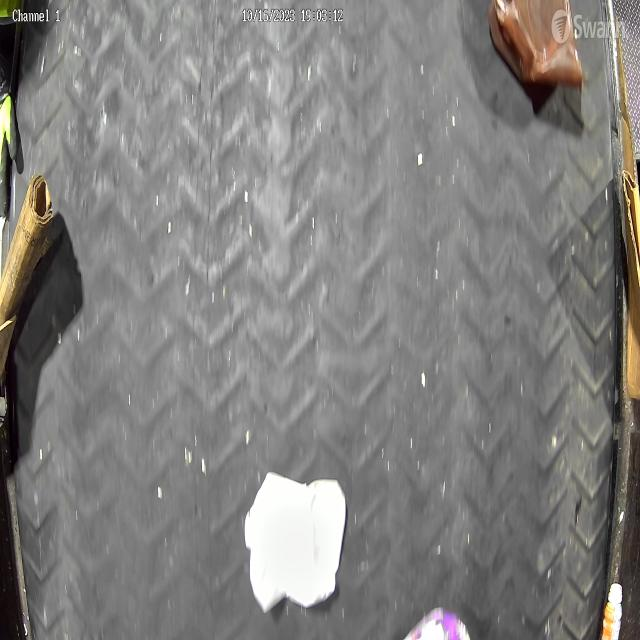milk_jug: (244, 471, 348, 614)
non_white_jug: (487, 0, 583, 94)
